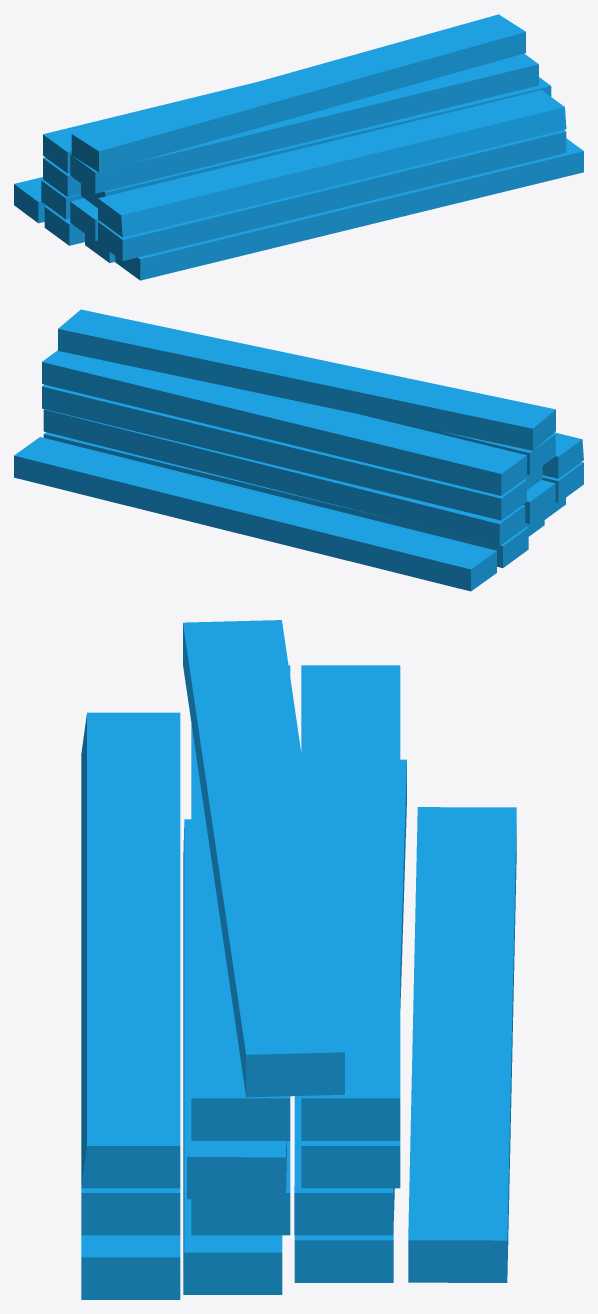
Rendered from Wood_stack.FBX.
3 renders of one model, top to bottom at view 1: azimuth 30°, elevation 25°; view 2: azimuth 150°, elevation 25°; view 3: azimuth 270°, elevation 25°, orthographic. The views are drawn at different scales.
Visible parts, largest first — view 1: Box1313; view 2: Box1313; view 3: Box1313.
Boxes of the visible parts, x1,y1,x2,y2 form: Box1313: [14, 14, 583, 280]; Box1313: [14, 309, 583, 591]; Box1313: [81, 620, 516, 1299].
Size of the model in its own units: 65.88 by 15.59 by 26.89.
